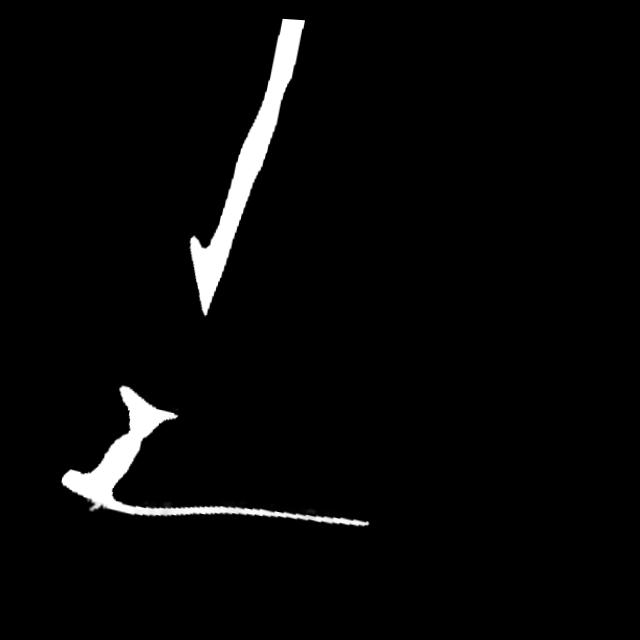sup_pli: (86, 492, 105, 516)
